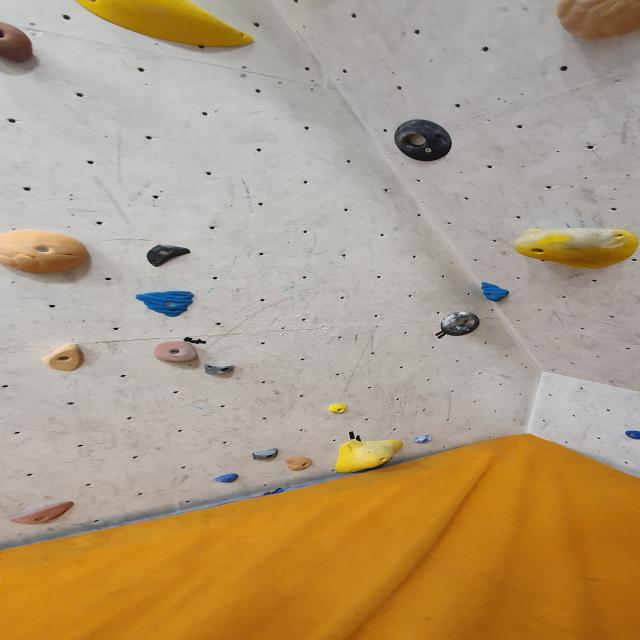Crimp: (10, 502, 78, 527), (135, 291, 195, 316), (480, 282, 512, 303), (213, 472, 241, 482), (414, 434, 433, 443), (623, 429, 640, 439)
Jug: (0, 20, 38, 66), (152, 342, 200, 365)
Pinch: (42, 343, 88, 372), (204, 362, 238, 375), (251, 449, 281, 461)
Pocket: (387, 118, 459, 164), (438, 311, 482, 338)
Sloper: (69, 0, 262, 50), (509, 226, 637, 269), (545, 0, 640, 49), (0, 232, 96, 279), (332, 439, 404, 475), (146, 244, 194, 266), (283, 456, 313, 472), (327, 401, 352, 416)
